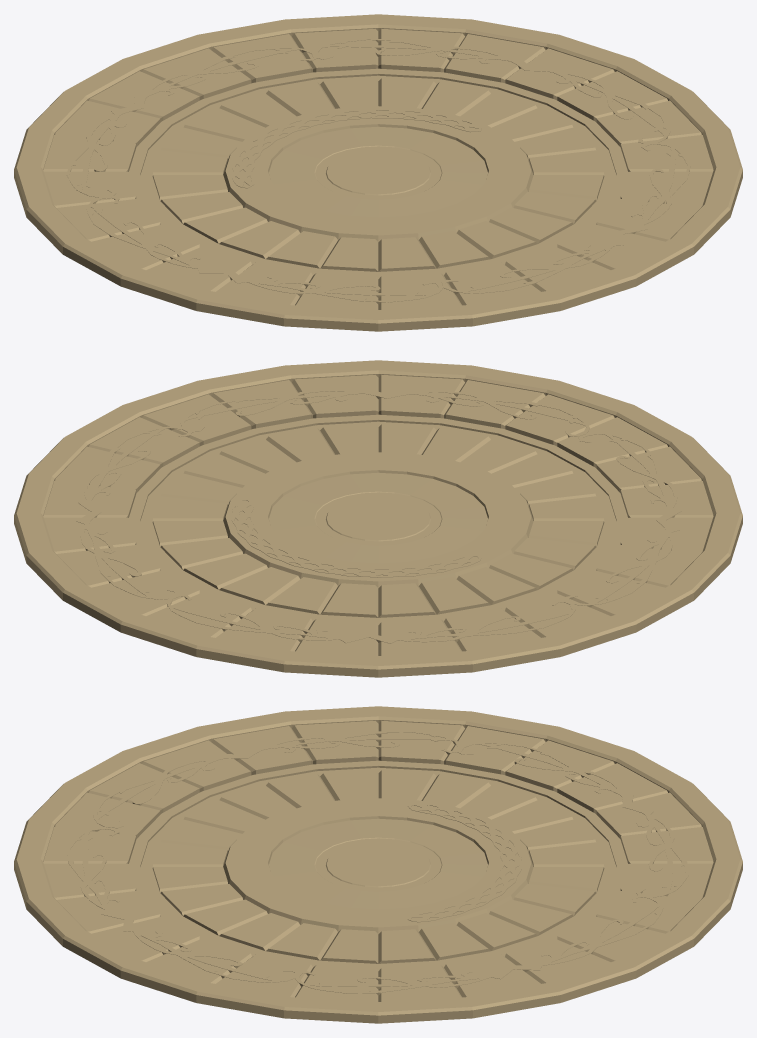
The model's file is Floor_02.fbx.
The picture shows the model from 3 angles, top to bottom: view 1: azimuth 30°, elevation 25°; view 2: azimuth 150°, elevation 25°; view 3: azimuth 270°, elevation 25°; orthographic projection.
Visible parts, largest first — view 1: Floor_02; view 2: Floor_02; view 3: Floor_02.
Boxes of the visible parts, bbox=[...] form: Floor_02: bbox=[14, 14, 742, 331]; Floor_02: bbox=[14, 360, 742, 677]; Floor_02: bbox=[14, 706, 742, 1023].
Bounding box in the file's own units: 1428 × 30.94 × 1428.
